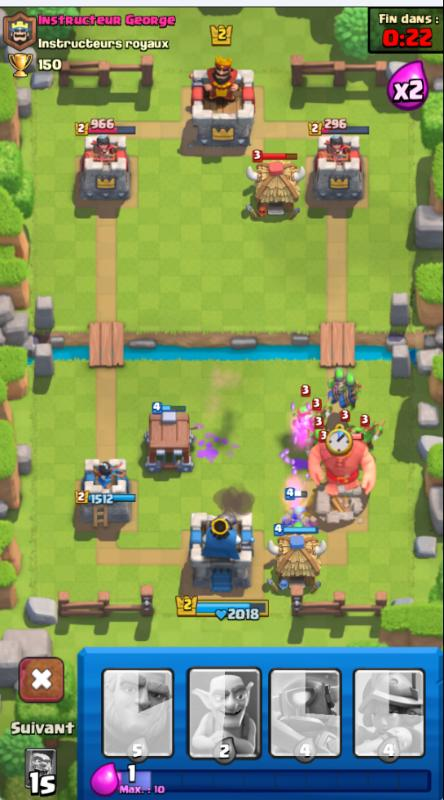geant: (305, 432, 378, 500)
gobelin_lances: (355, 415, 383, 455), (285, 400, 312, 440), (282, 499, 308, 536), (328, 364, 344, 403), (308, 398, 331, 425), (344, 373, 360, 411), (310, 423, 328, 441)
